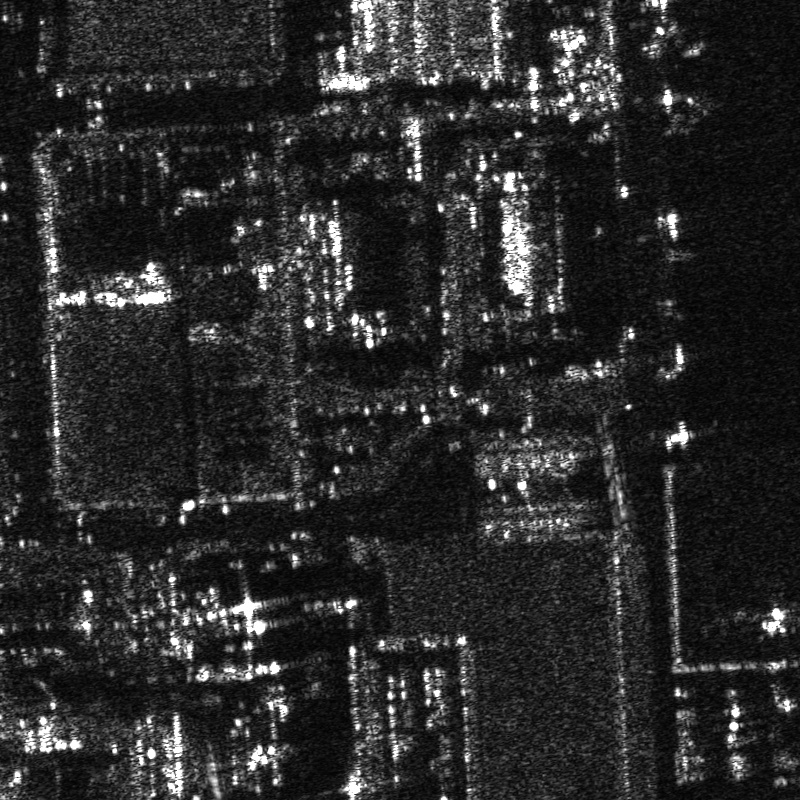ARJ21: (746, 587, 799, 648)
